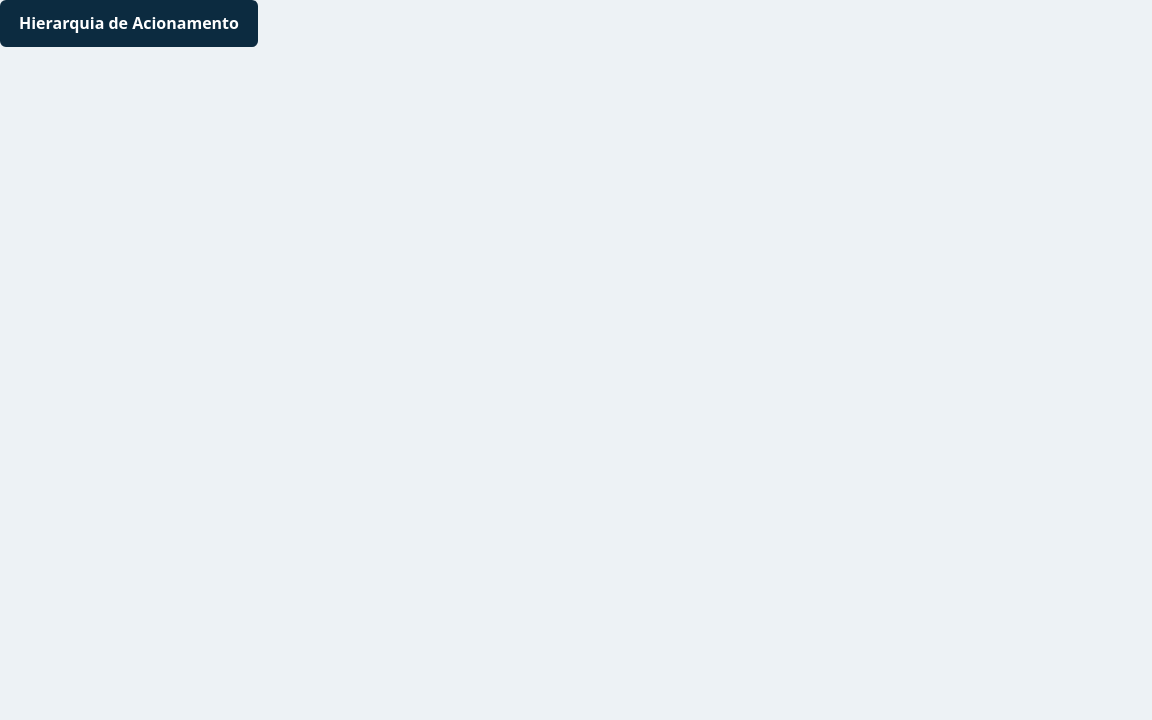
Scenario: hierarquia oficial com zoom, fecha e retorna o foco
Later steps or results of the test are not shown.
What coordinates should you click on to do the following:
click the button "Hierarquia de Acionamento"
I would click on:
 (129, 23)
Its box is [0,0,258,47].
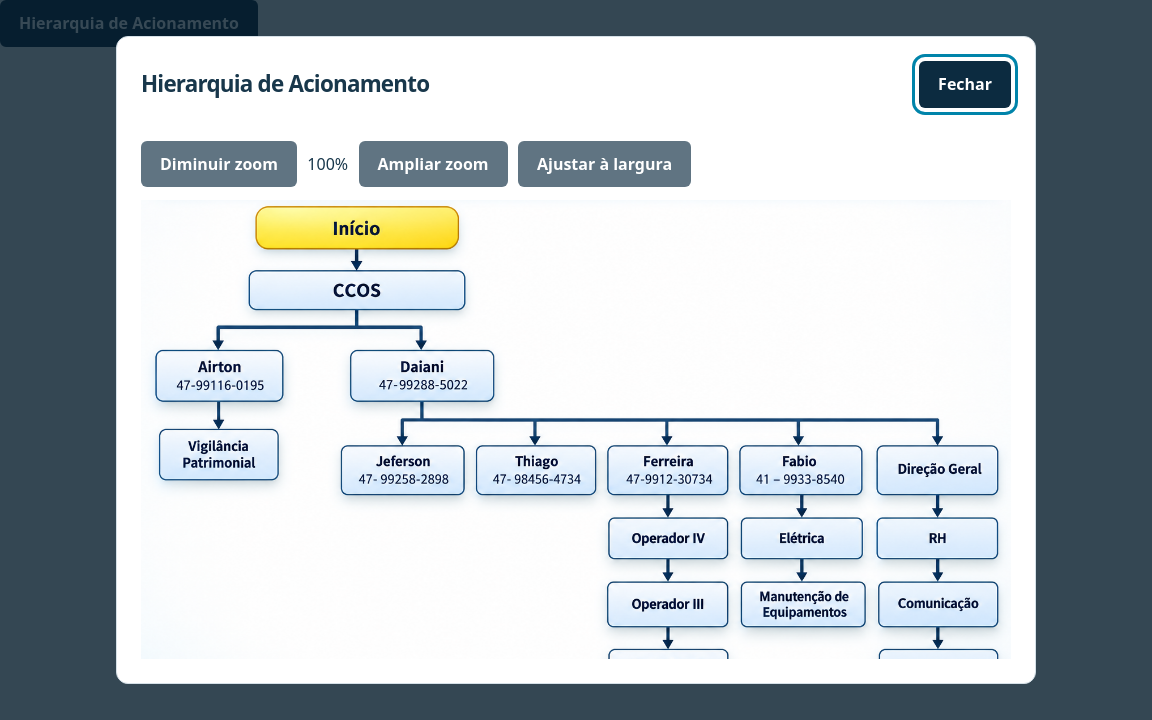
Now the dialog "Hierarquia de Acionamento" is shown
